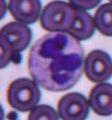N: (26, 33, 83, 92)
